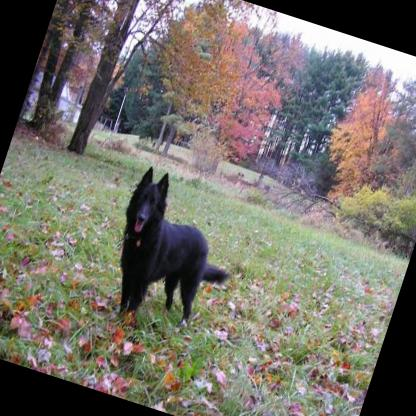groenendael: (91, 161, 254, 349)
